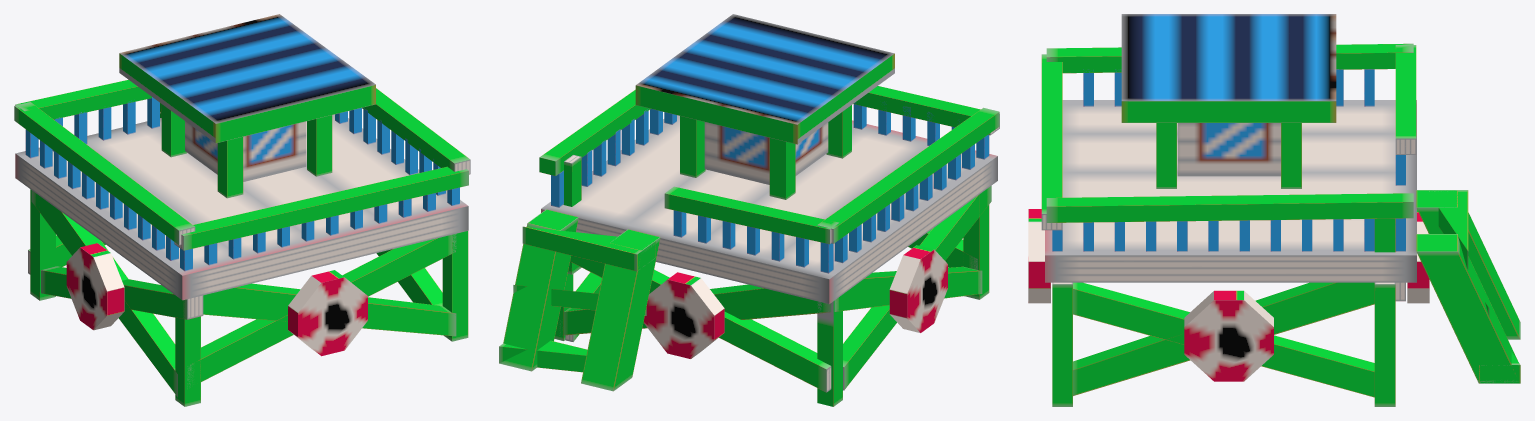
The model's file is beach-house.gltf.
3 renders of one model, left to right at view 1: azimuth 30°, elevation 25°; view 2: azimuth 150°, elevation 25°; view 3: azimuth 270°, elevation 25°, orthographic. The views are drawn at different scales.
Size of the model in its own units: 9.64 by 7.23 by 11.82.
1 material, 1 textured.
